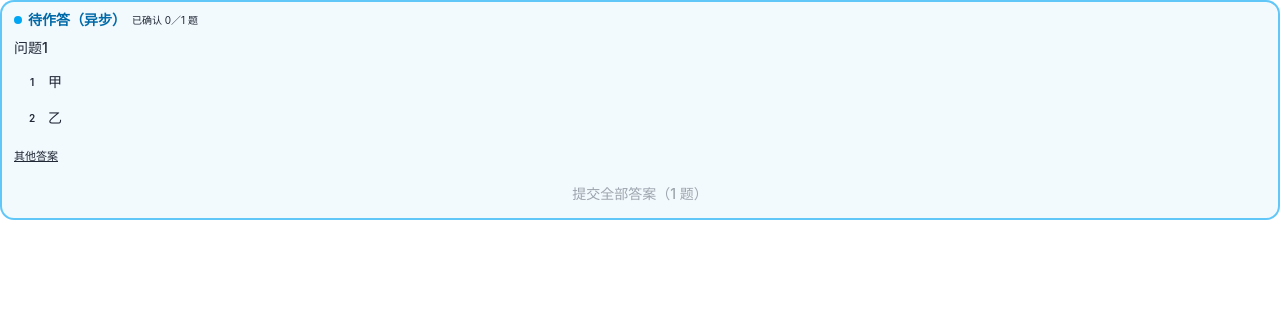
Test case: G03/G09 组身份与提交状态机 › g09_accepted_is_not_completion_and_waits_for_answers
What coordinates should you click on to do the following:
click the button "1 甲"
I would click on:
 (32, 82)
Its box is [14, 66, 1266, 98].
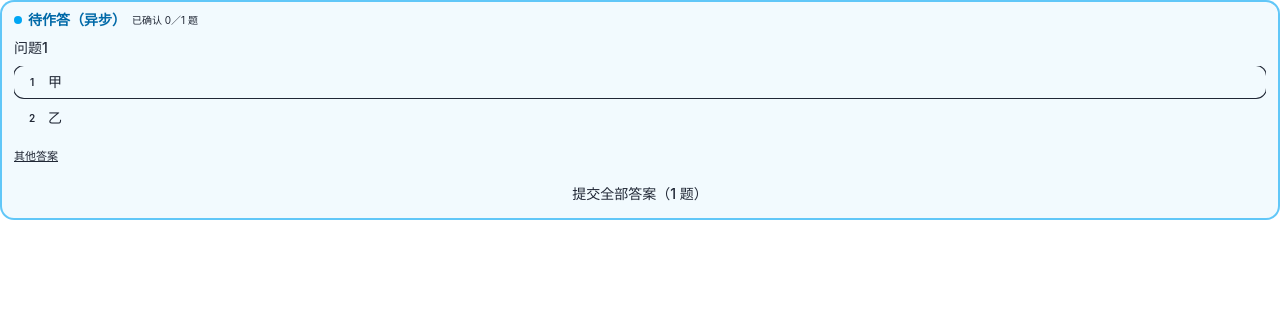
What coordinates should you click on to do the following:
click the button with test id "codex-async-submit"
I would click on:
 (640, 194)
Its box is [14, 178, 1266, 210].
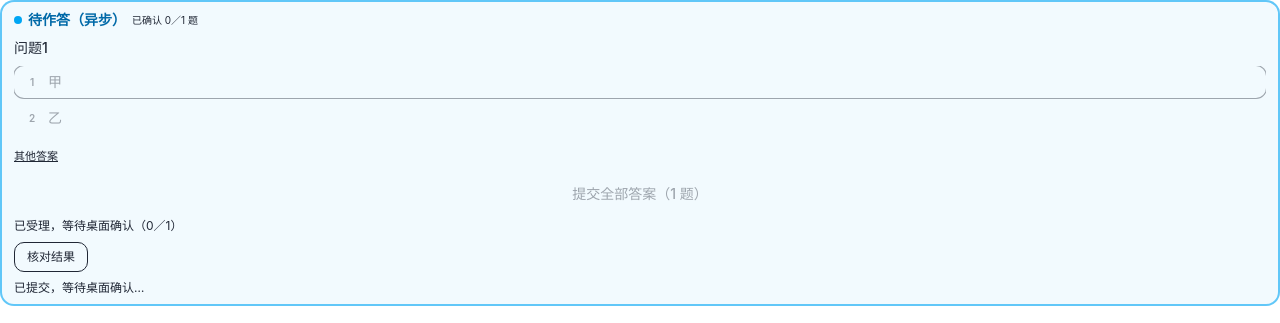
Now the text "已受理，等待桌面确认（0／1）" is shown, box [14, 218, 182, 234]
